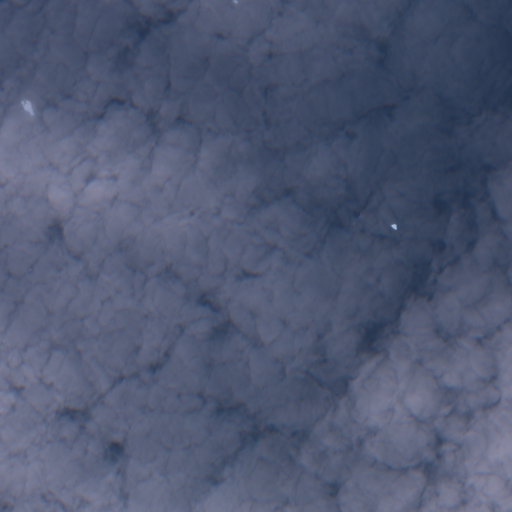Iceberg: (21, 100, 32, 114), (391, 224, 396, 229), (233, 0, 237, 3)
